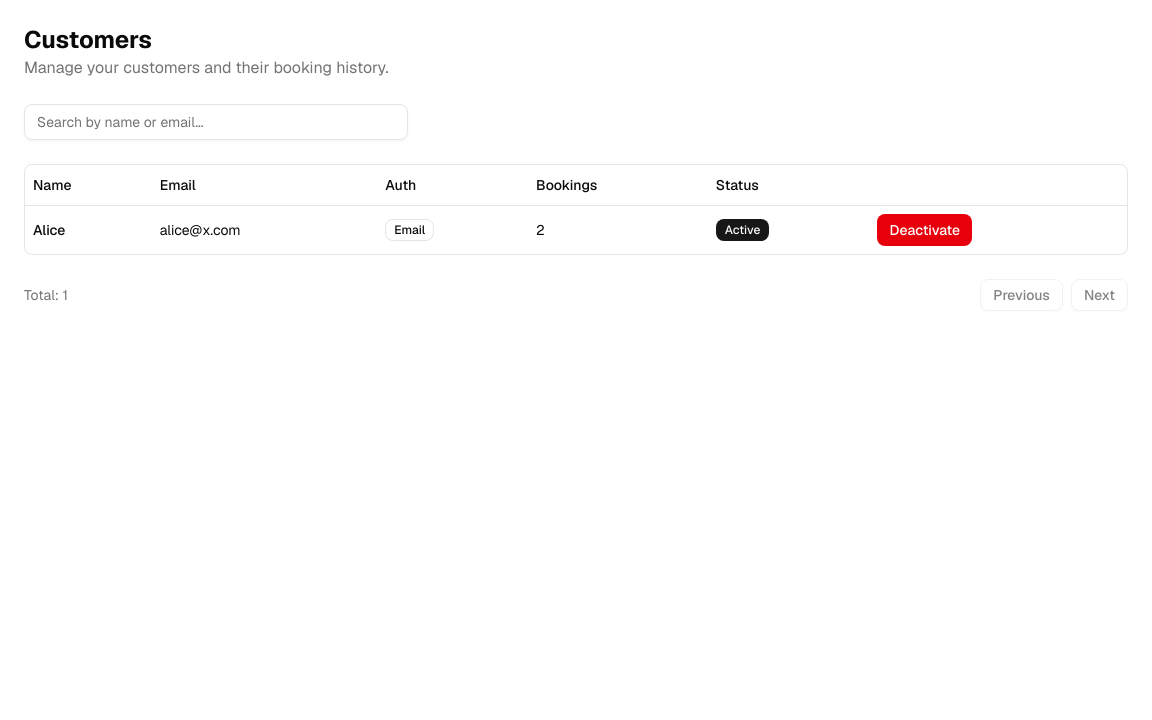
Test: CustomersPage — deactivate dialog › opens confirmation dialog on Deactivate click
Click the button "Deactivate" at (925, 230), box [878,214,972,246]
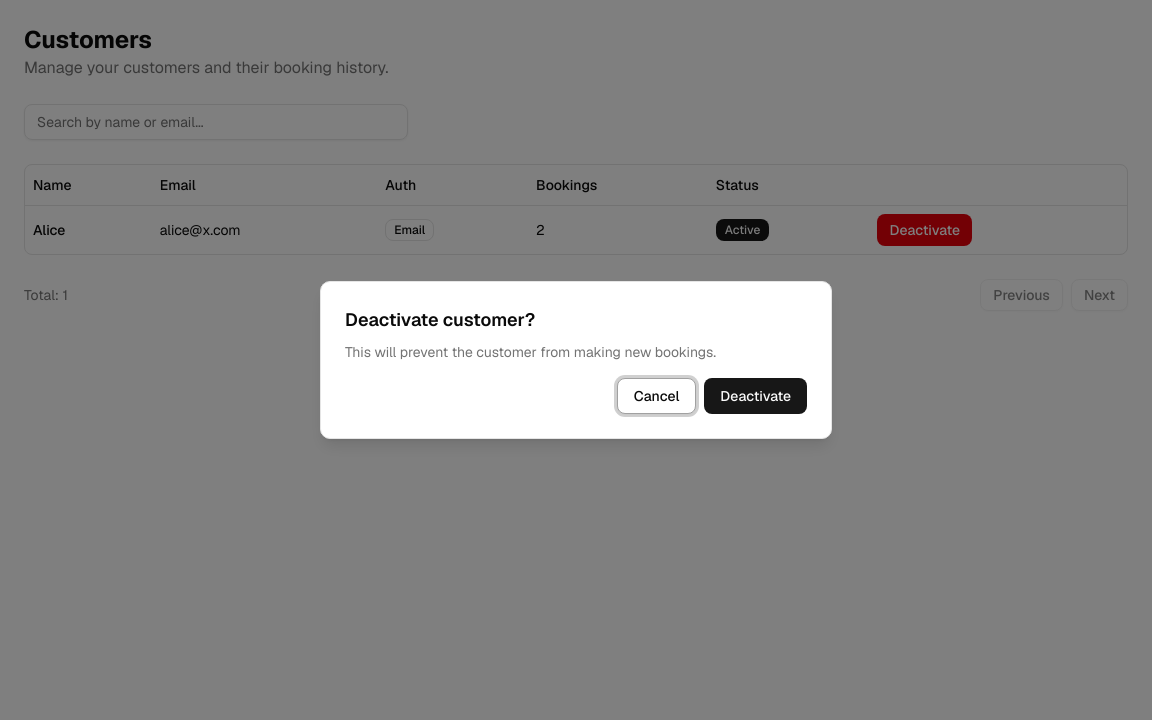
Now the heading "Deactivate customer?" is shown, box [345,308,535,331]
